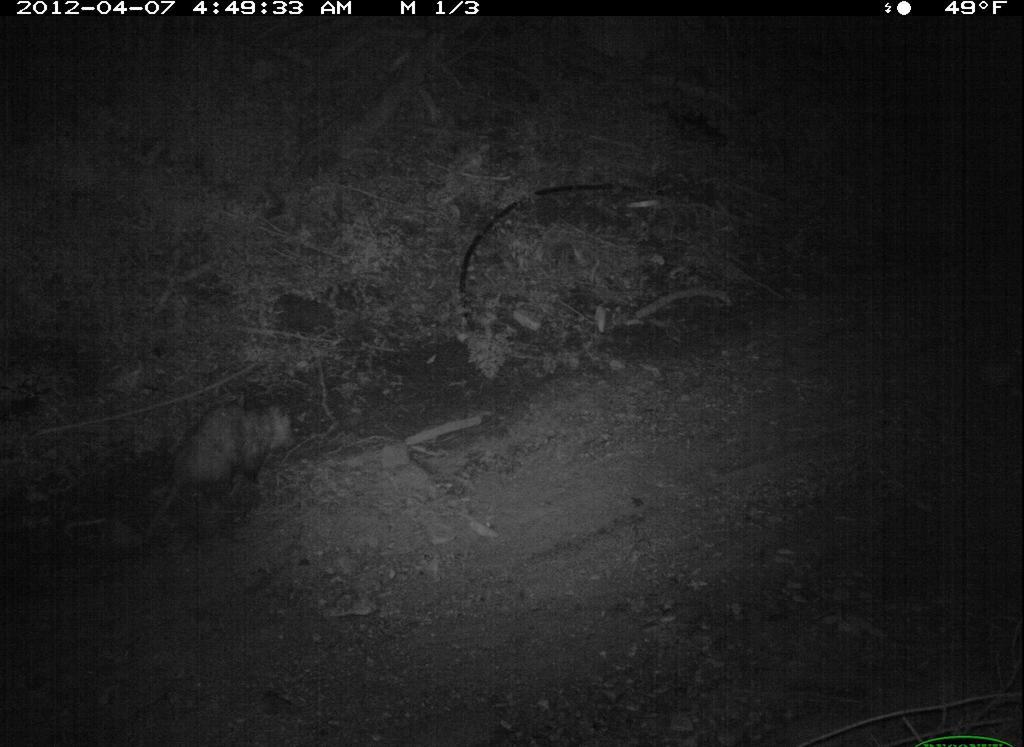opossum: (137, 392, 317, 545)
